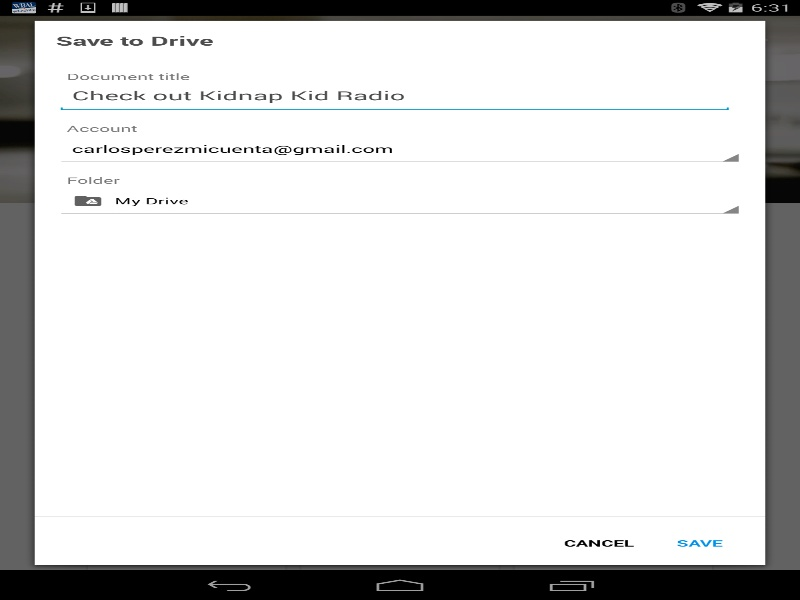Button: (542, 526, 655, 560), (655, 526, 744, 560)
Input: (56, 82, 733, 112)
